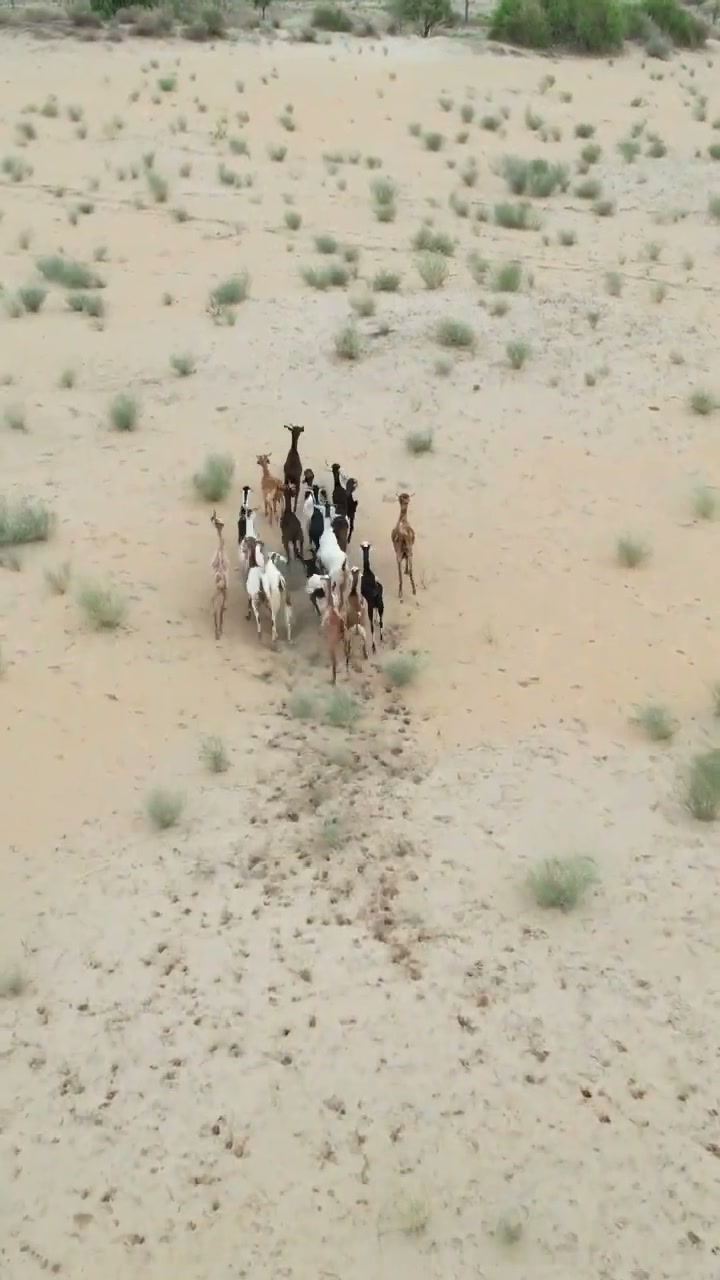animal_foot_print: (24, 590, 706, 813)
